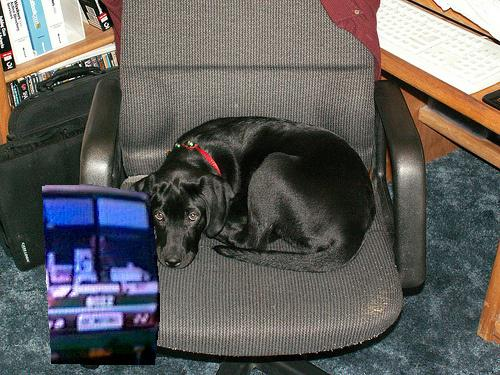tampered: (43, 185, 160, 365)
